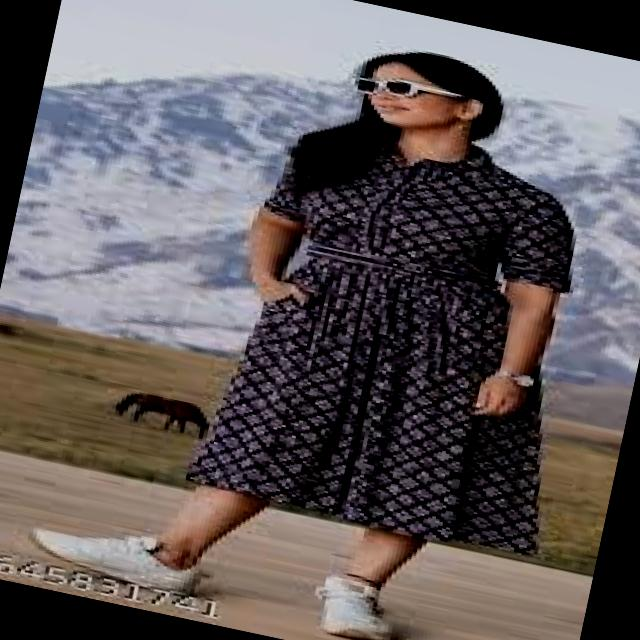dress: (186, 142, 575, 555)
face: (368, 90, 483, 129)
foot-wear: (30, 529, 209, 596), (315, 574, 395, 639)
